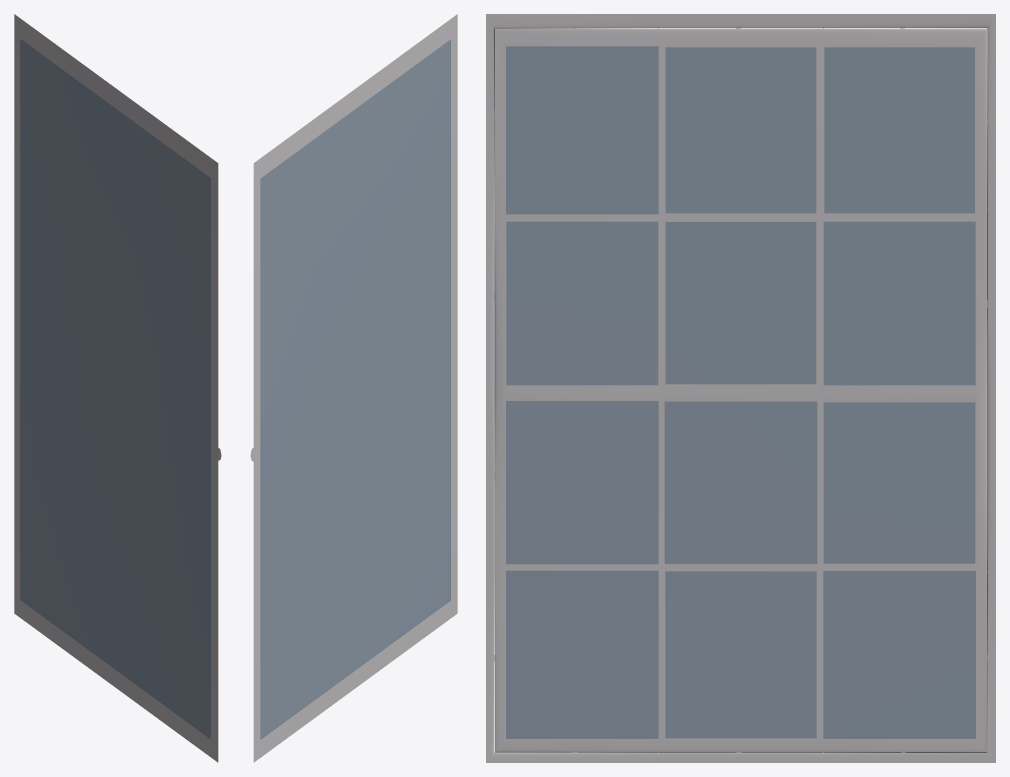
Rendered from townwindow.fbx.
3 renders of one model, left to right at view 1: azimuth 30°, elevation 25°; view 2: azimuth 150°, elevation 25°; view 3: azimuth 270°, elevation 25°, orthographic. The views are drawn at different scales.
Visible parts, largest first — view 1: Cube, Cube.001; view 2: Cube, Cube.001; view 3: Cube, Cube.001.
Boxes of the visible parts, x1,y1,x2,y2 form: Cube: (14,14,221,762); Cube.001: (20,39,210,738); Cube: (250,14,457,762); Cube.001: (260,40,450,739); Cube: (486,14,995,762); Cube.001: (506,46,975,738).
Size of the model in its own units: 1.31 by 69.88 by 43.1.
